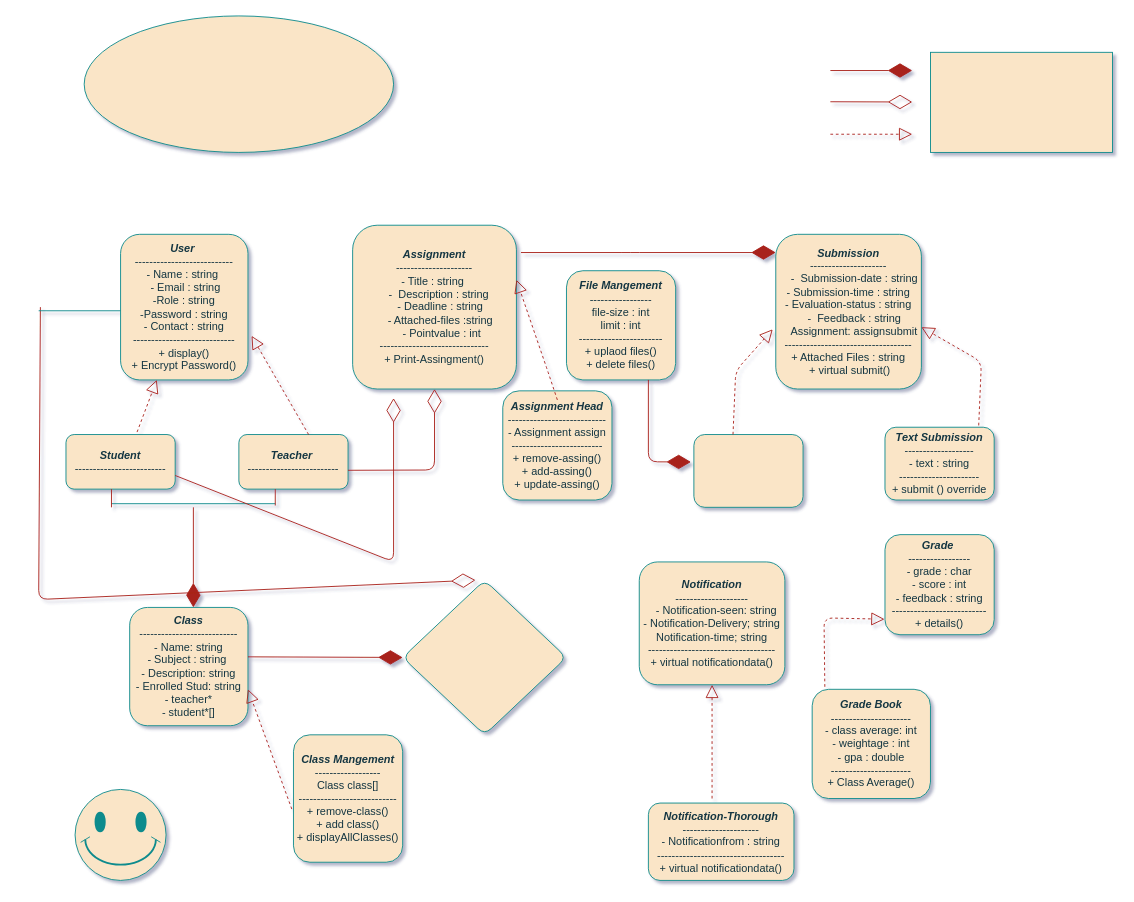
The diagram is 1134 pixels wide and 902 high, and some of its shapes have lost their labels. The shapes that lost their labels are listed below. From the top down, each one's centre as x and y in pixels, then its label:
At point 238,83: "UML CLASS DIAGRAM".
At point 1021,101: "COMPOSITION AGGREGATION INHERITANCE".
At point 748,470: "Files Submission ------------------ + submit () override".
At point 484,657: "CLASS ROOM MANAGEMENT SYSTEM".
